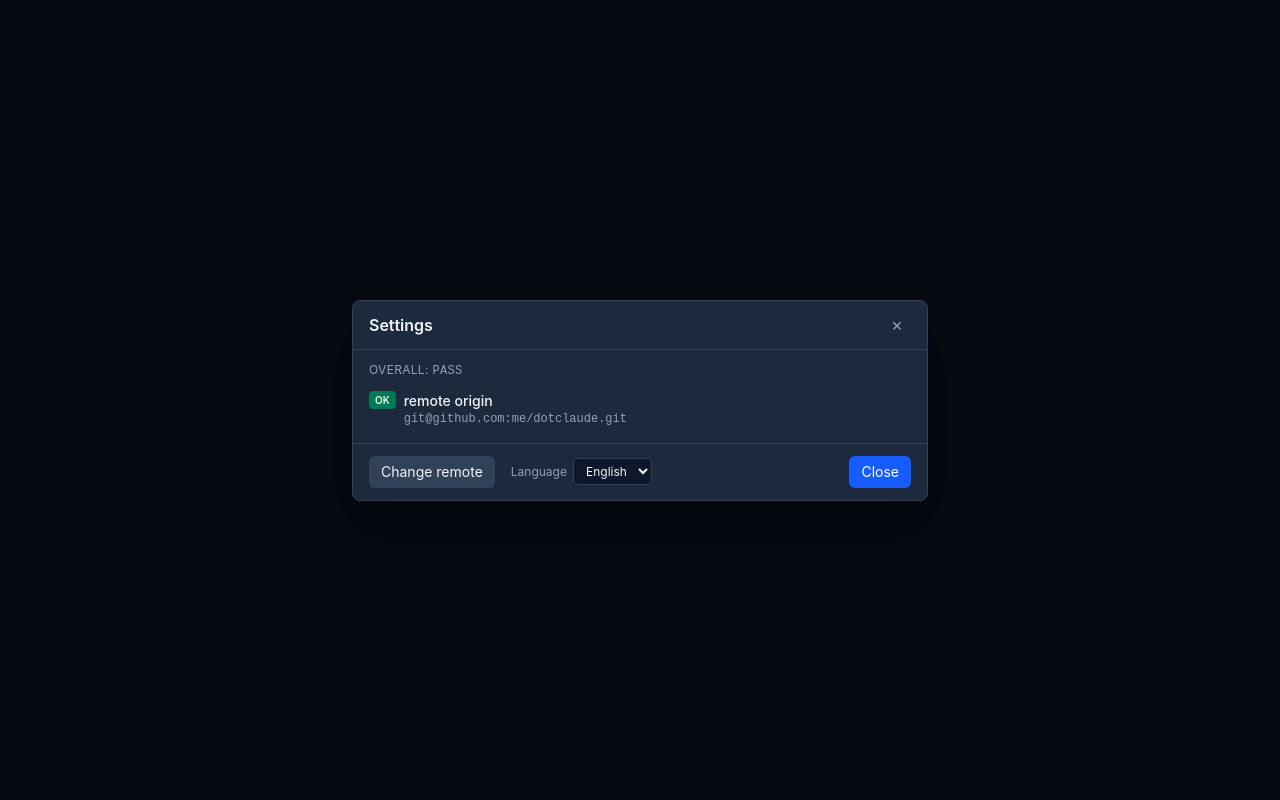
Test: SettingsModal — change remote form › expands the inline form when 'Change remote' is clicked
Check: the text "Overall: PASS" is shown, box [369,362,462,378]
Check: the field labelled "New remote URL" is not shown
Click the button "Change remote": x=432, y=472 [369,456,495,488]
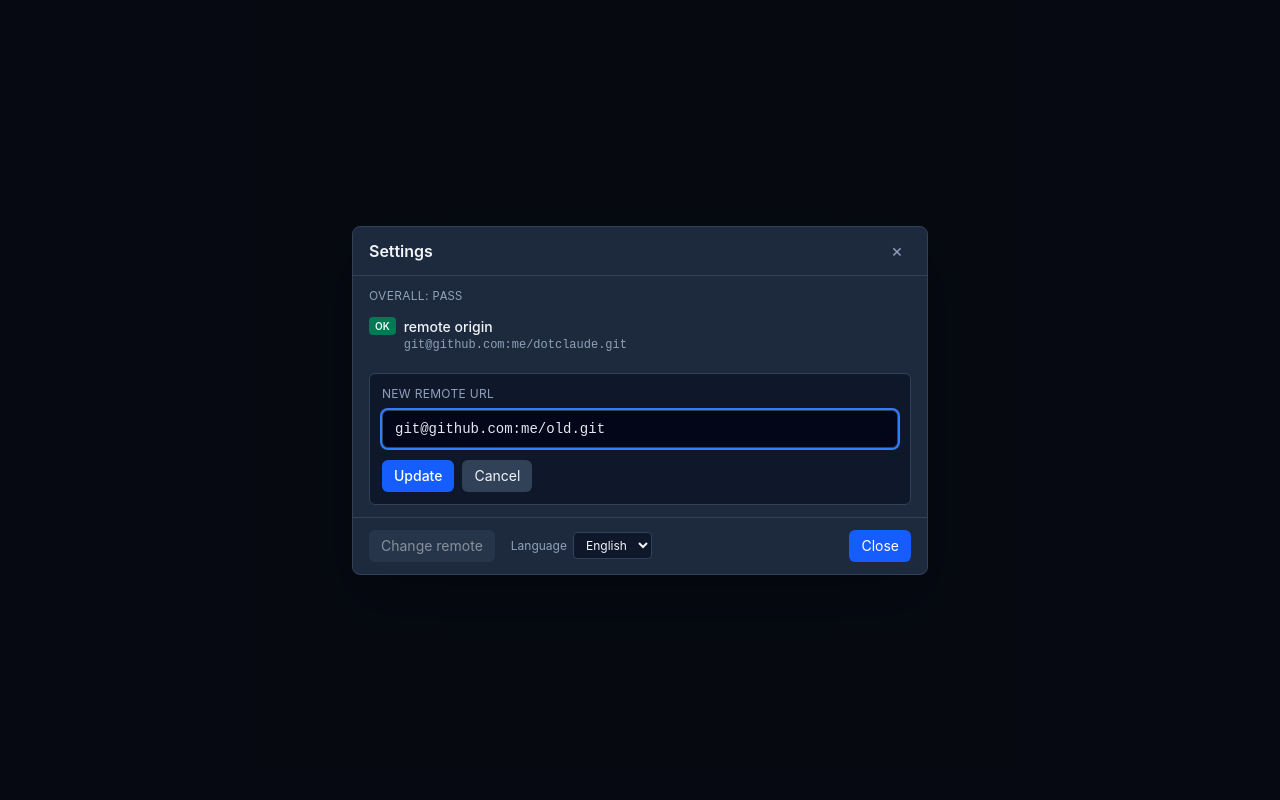
Check: the field labelled "New remote URL" is shown, box [382,410,898,448]
Check: the button "Update" is shown, box [382,460,454,492]
Check: the button "Cancel" is shown, box [462,460,532,492]
